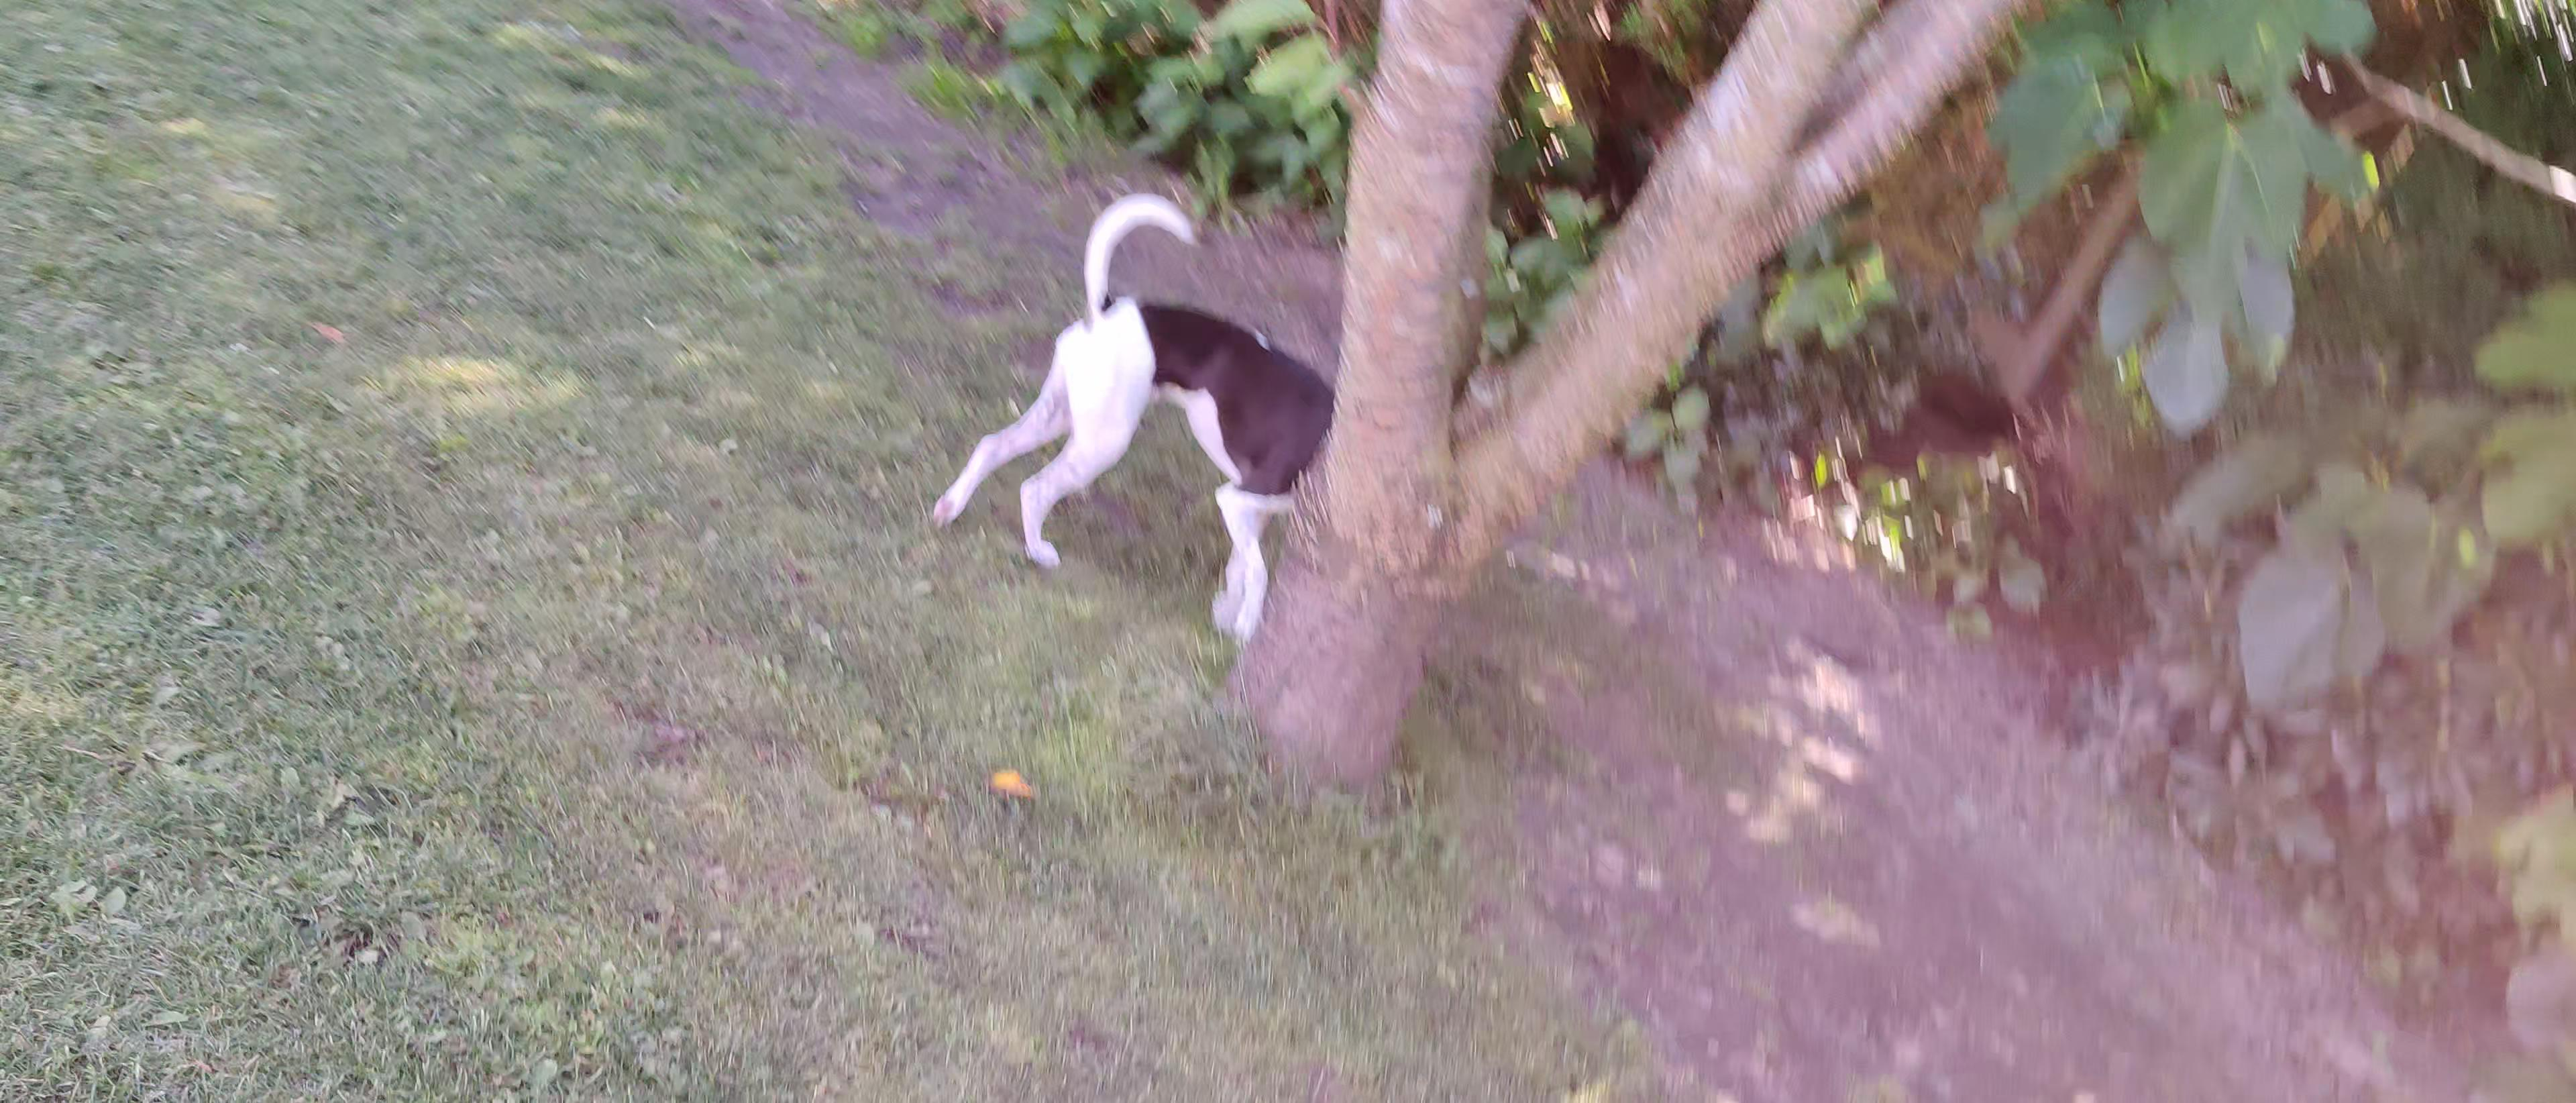Dog: (920, 187, 1464, 646)
